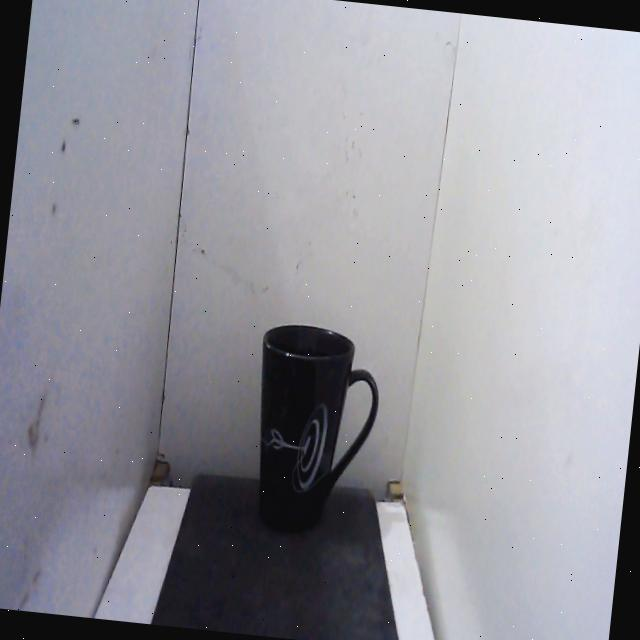vidro: (236, 305, 392, 559)
